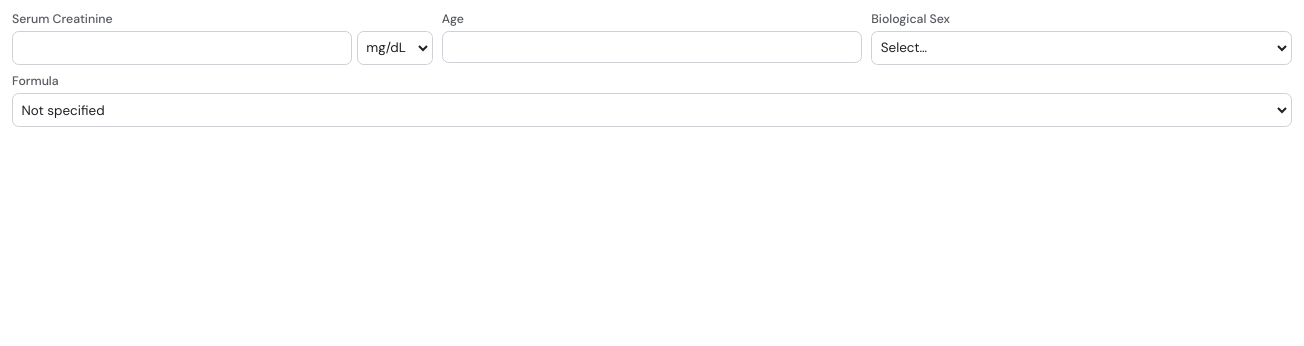
Scenario: CalcRenderer — choices start unselected › eGFR does not compute until sex is chosen
Type "1" into the number field below "Serum Creatinine". click: point(182, 48)
box: [12,31,352,65]
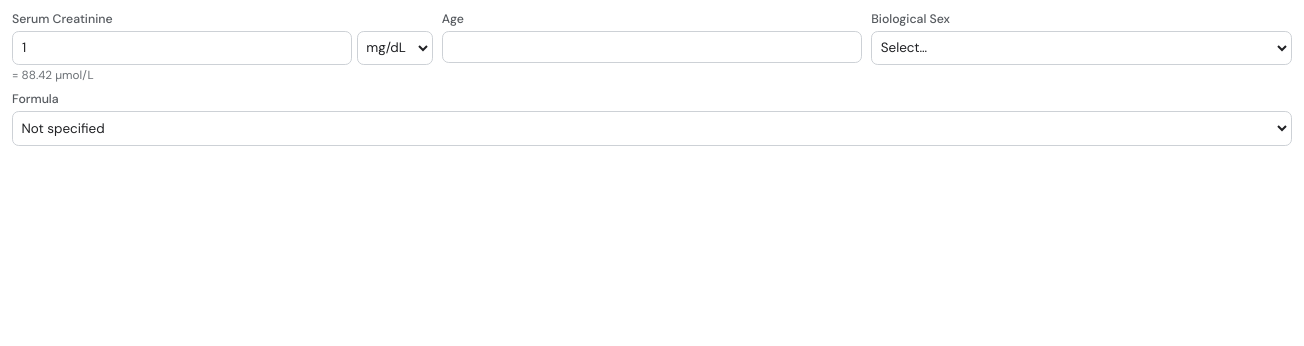
Type "50" into the number field below "Age". click: point(652, 47)
box: [442,31,862,63]
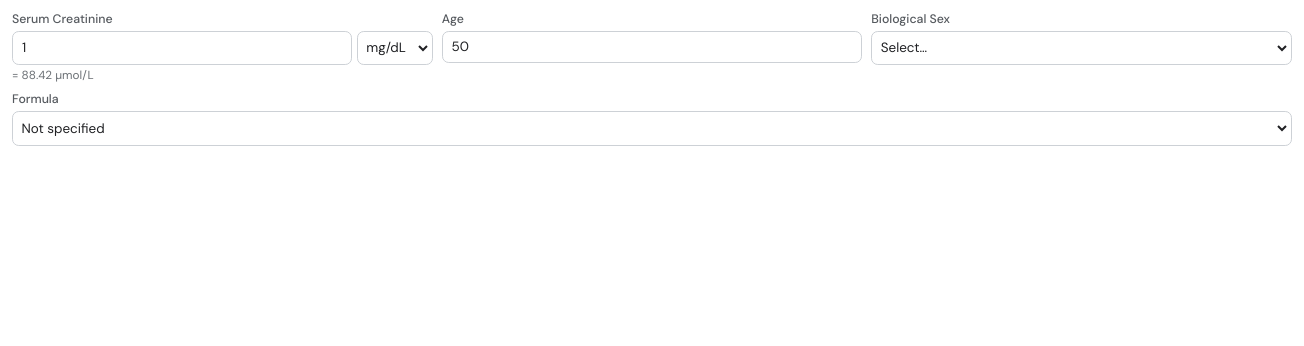
Check: the text "Add result" is not shown
Select "Female" in the dropdown below "Biological Sex". click: point(1082, 48)
box: [871,31,1292,65]
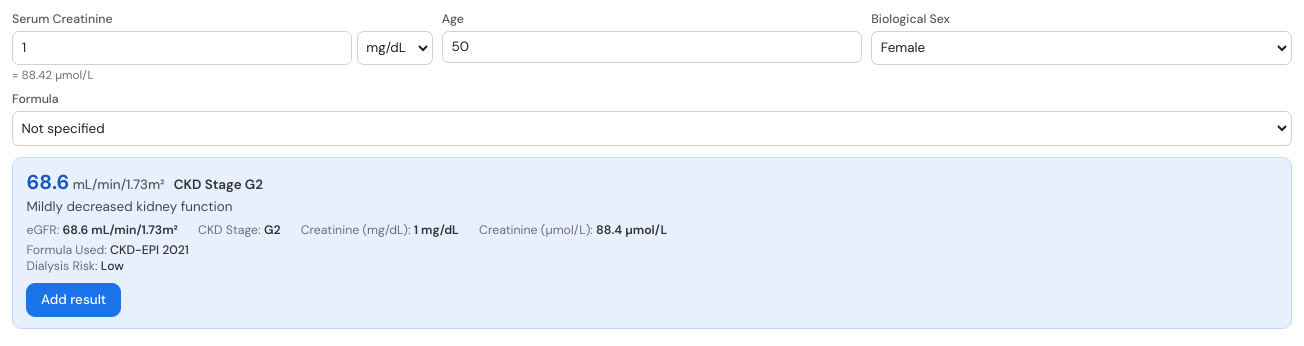
Check: the button "Add result" is shown, box [26,283,121,317]
